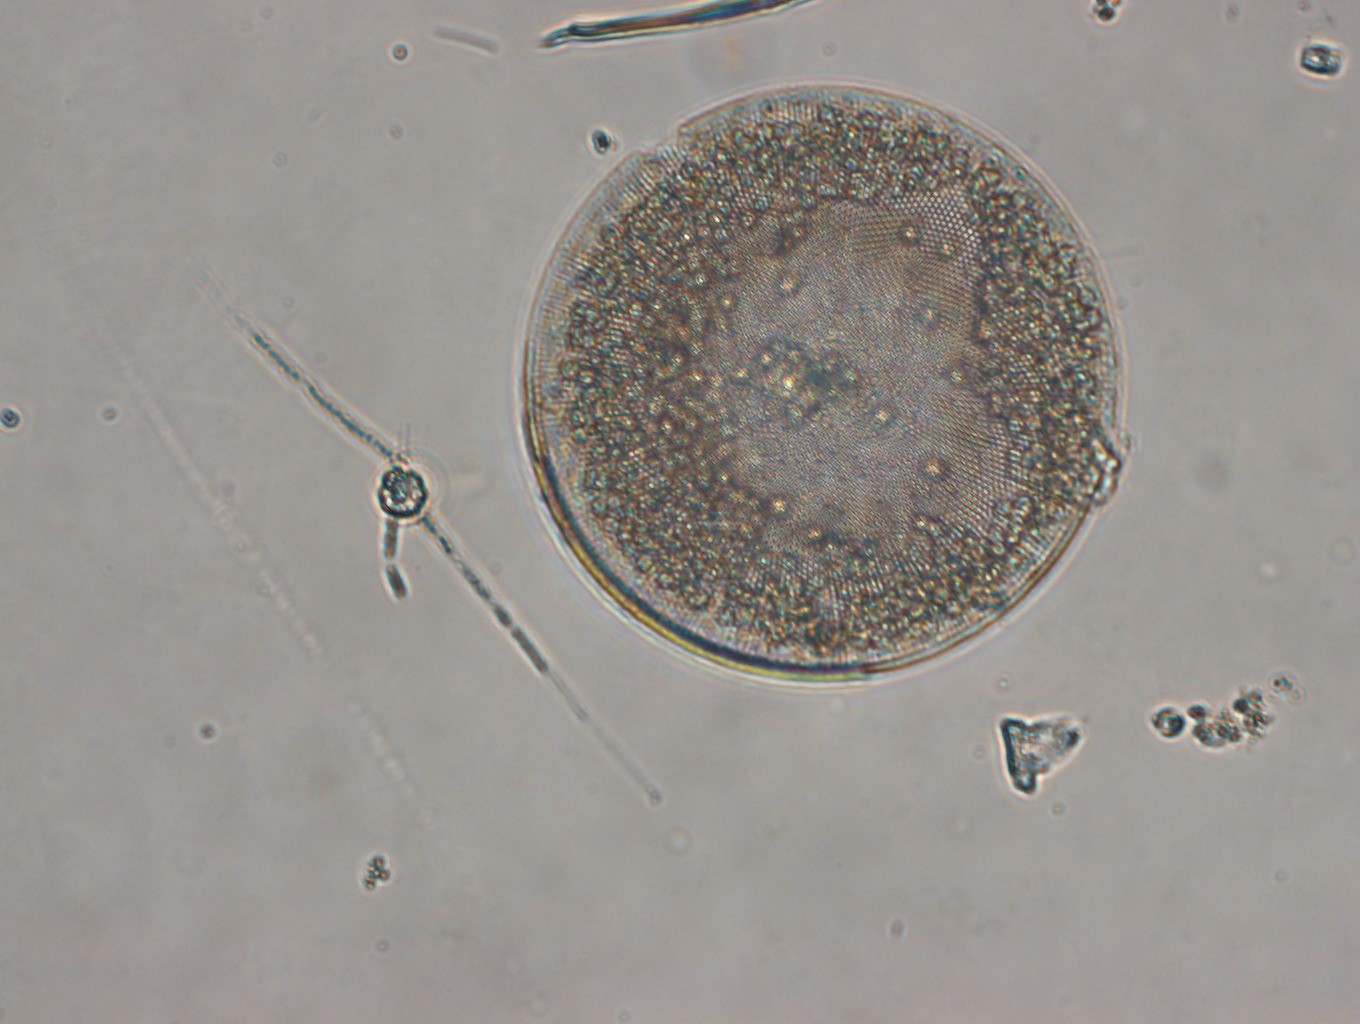coscinodiscus: (511, 84, 1139, 684)
